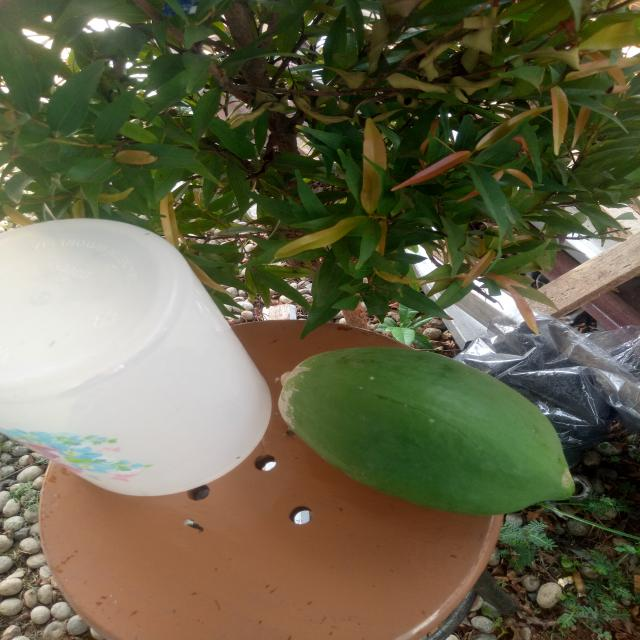Pepaya unrippen: (254, 338, 582, 520)
